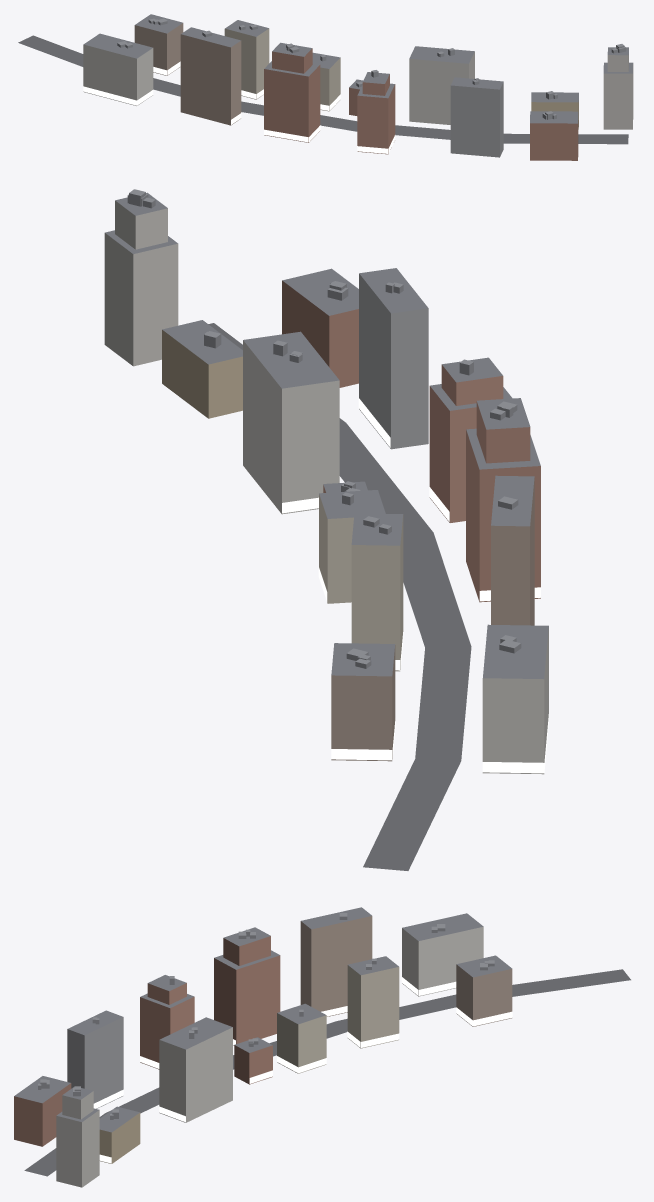
3 views of the same model, one above another, from view 1: azimuth 30°, elevation 25°; view 2: azimuth 150°, elevation 25°; view 3: azimuth 270°, elevation 25° (orthographic). The views are drawn at different scales.
Bounding box in the file's own units: 253 × 54.77 × 305.
